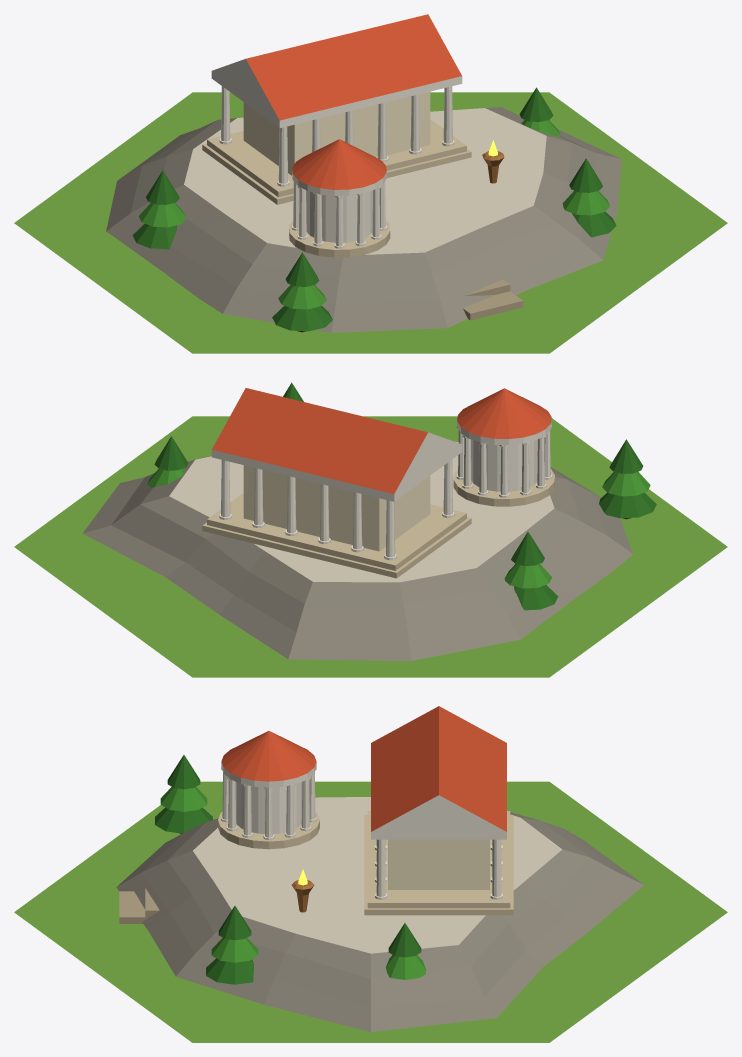
The model's file is wonder_oracle.fbx.
3 renders of one model, top to bottom at view 1: azimuth 30°, elevation 25°; view 2: azimuth 150°, elevation 25°; view 3: azimuth 270°, elevation 25°, orthographic.
Parts seen in each view (by area): view 1: wonder_oracle; view 2: wonder_oracle; view 3: wonder_oracle.
Part boxes in pixels (left/top/right/bottom): wonder_oracle: left=14, top=14, right=727, bottom=353; wonder_oracle: left=14, top=382, right=727, bottom=677; wonder_oracle: left=14, top=706, right=727, bottom=1042.
Size of the model in its own units: 182 by 53.05 by 210.
